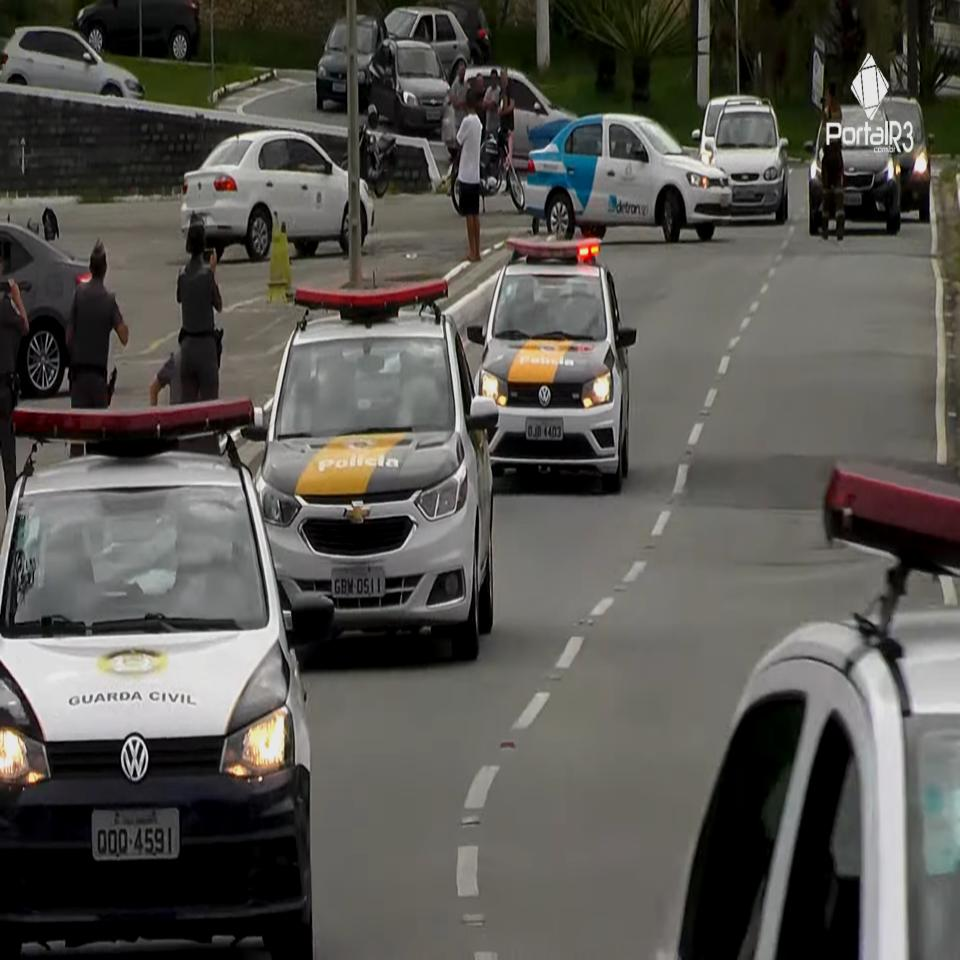viatura: (0, 398, 321, 955), (244, 274, 505, 654), (467, 235, 638, 491)
